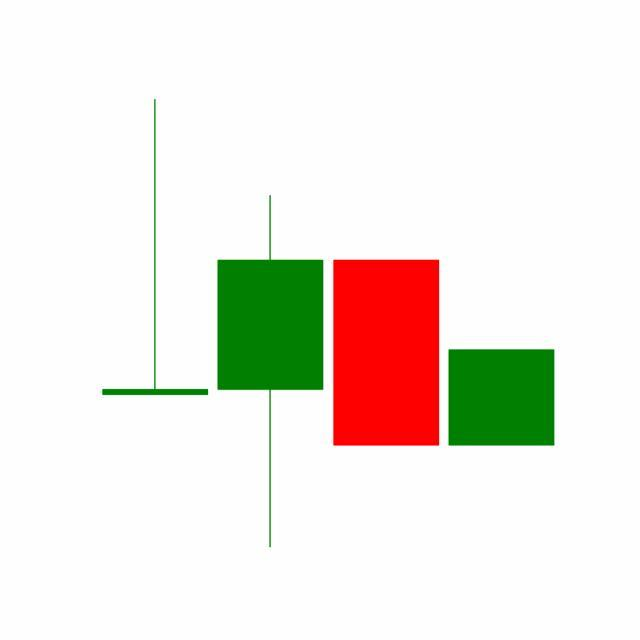Marubozu: (444, 349, 560, 447)
